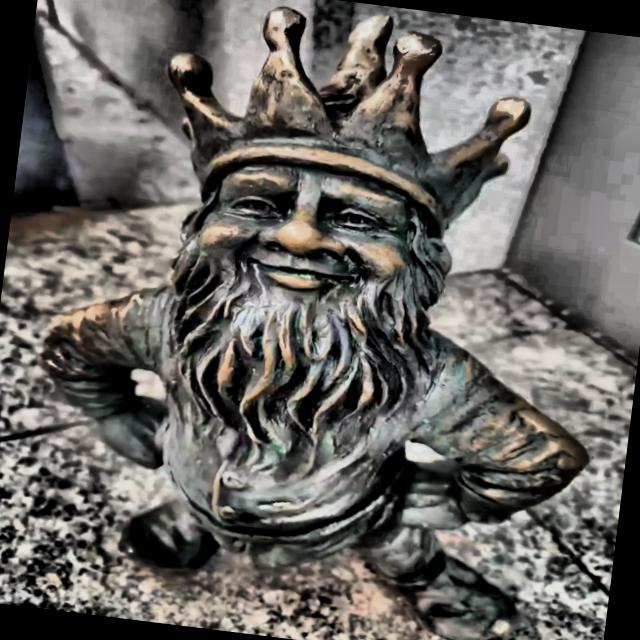Koronus: (40, 7, 588, 640)
